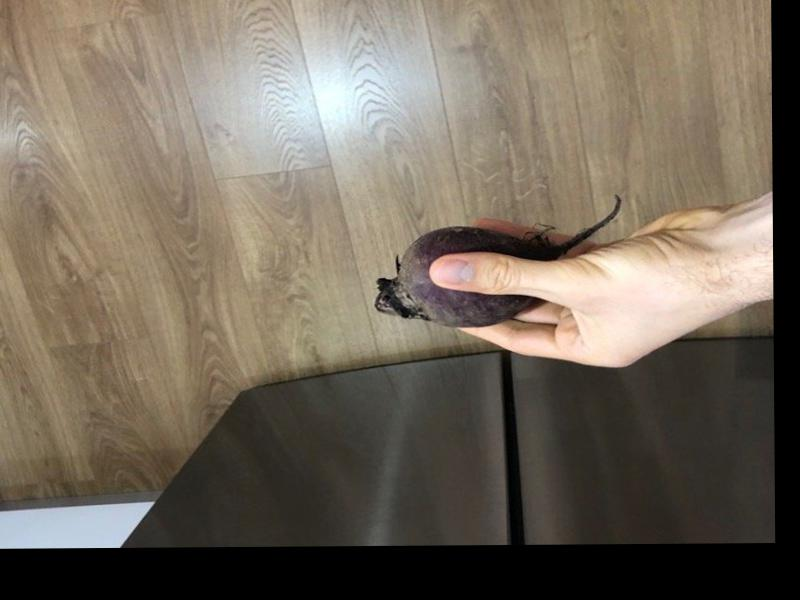Beet: (372, 193, 619, 328)
